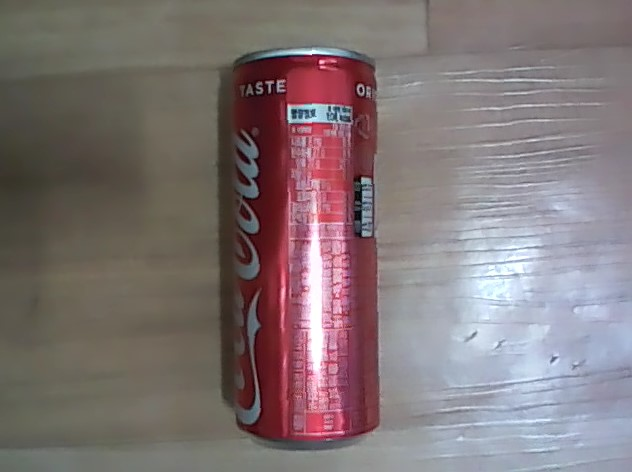Can: (214, 38, 390, 454)
